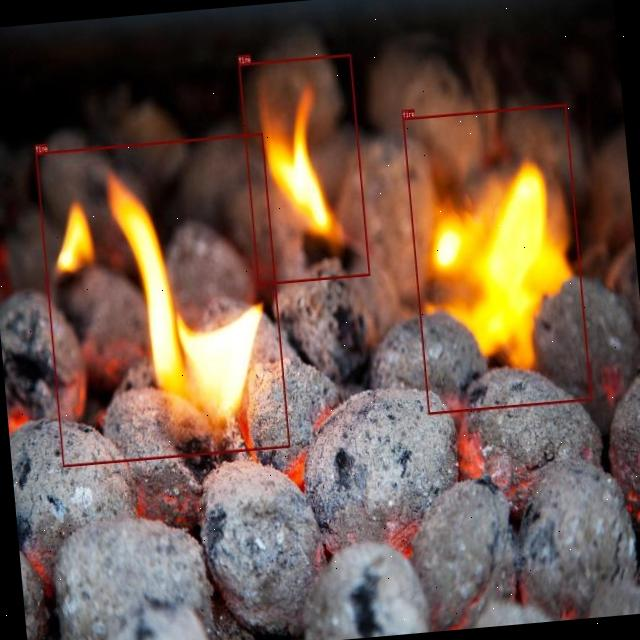fire: (35, 132, 290, 466), (402, 103, 591, 414), (238, 53, 369, 284)
